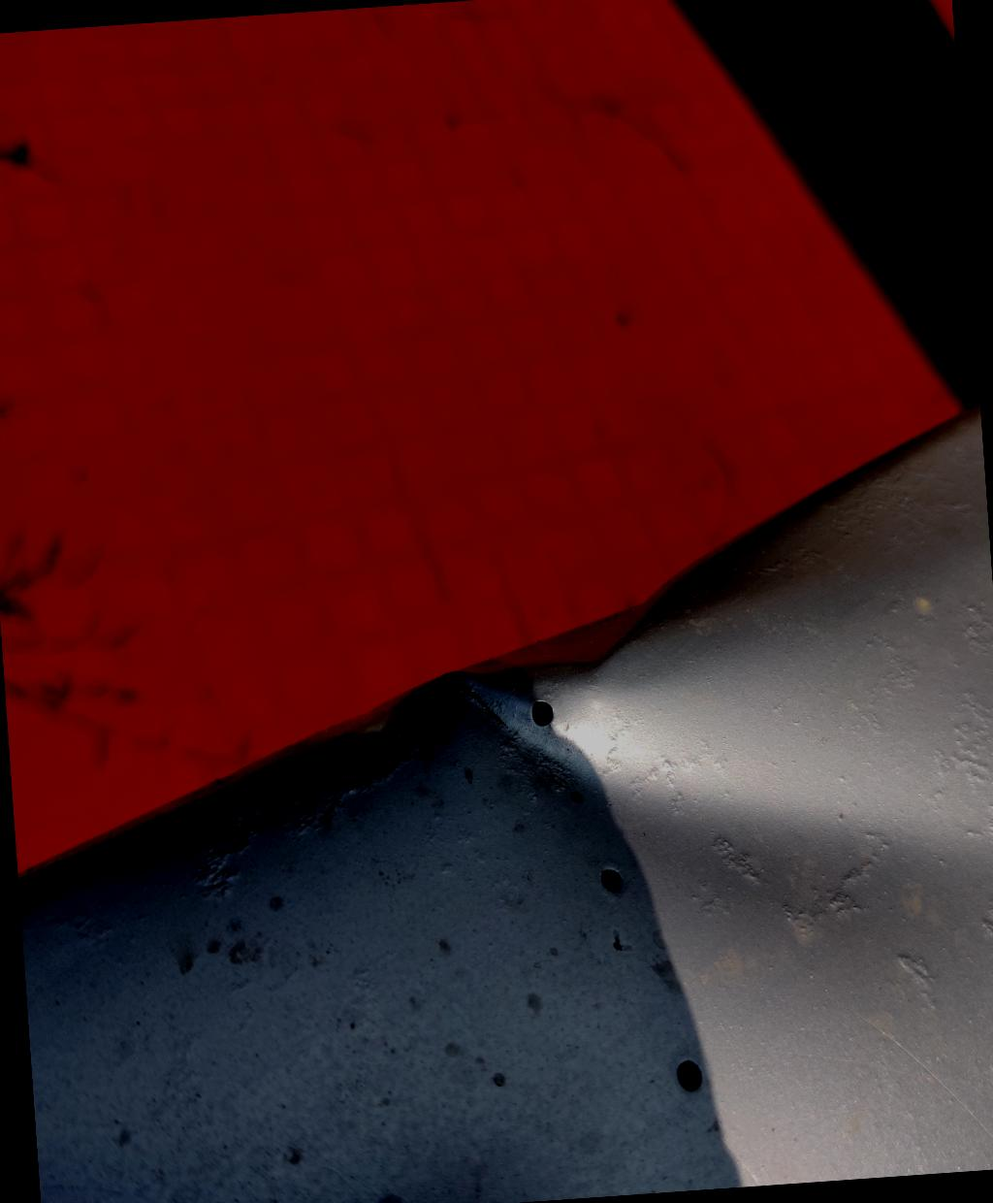crack: (421, 627, 519, 754)
dent: (395, 408, 973, 973)
